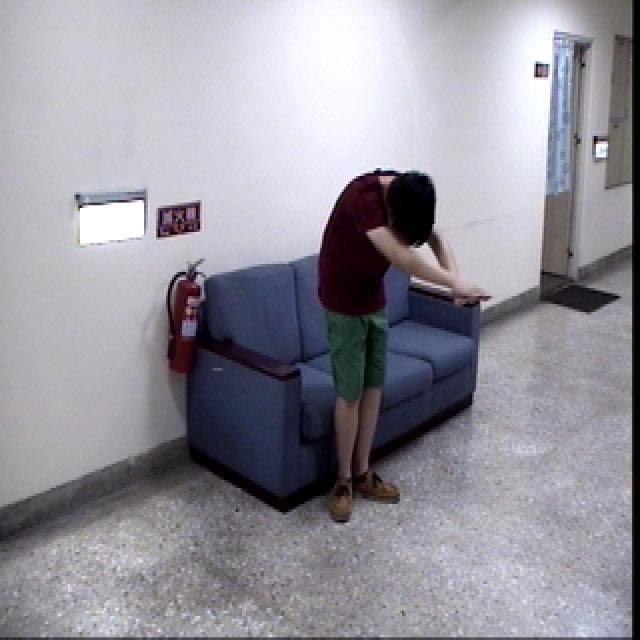bend: (310, 160, 495, 531)
